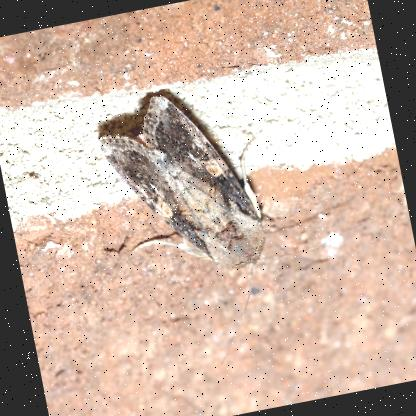Fall Armyworm Moth: (87, 56, 387, 383)
